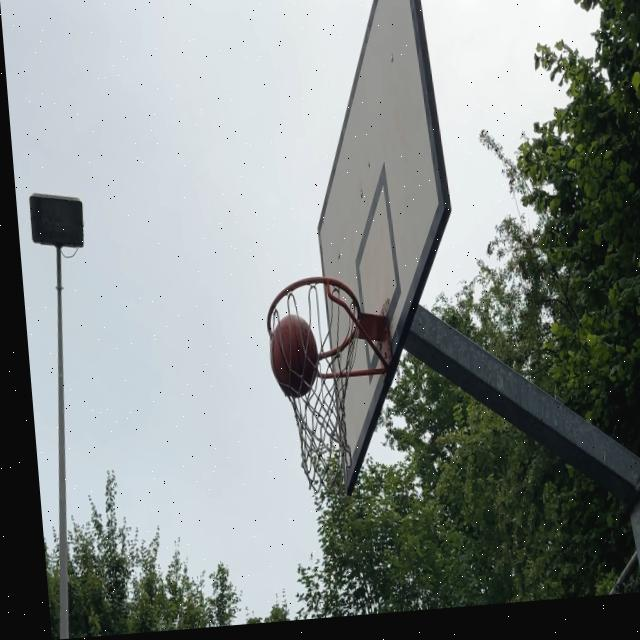Goal: (269, 312, 321, 399)
